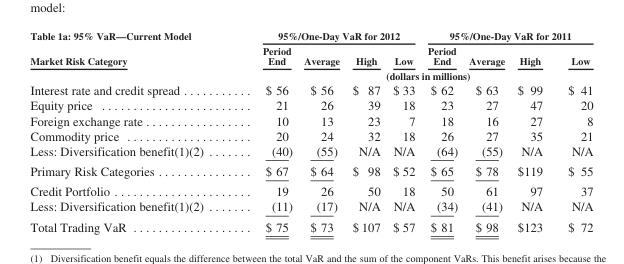table: (29, 29, 592, 233)
table column: (29, 29, 232, 233), (232, 29, 297, 233), (297, 29, 345, 233), (462, 29, 510, 233), (510, 29, 554, 233), (420, 29, 462, 233), (345, 29, 386, 233), (554, 29, 592, 233), (386, 29, 420, 233)
table column header: (29, 29, 592, 82)
table row: (29, 42, 592, 67), (29, 160, 592, 180), (29, 180, 592, 198), (29, 198, 592, 216), (29, 143, 592, 160), (29, 216, 592, 233), (29, 127, 592, 143), (29, 67, 592, 82), (29, 82, 592, 97), (29, 97, 592, 112), (29, 112, 592, 127), (29, 29, 592, 42)
table spanning cell: (29, 29, 232, 82), (232, 67, 592, 82), (232, 29, 420, 42), (420, 29, 592, 42)
